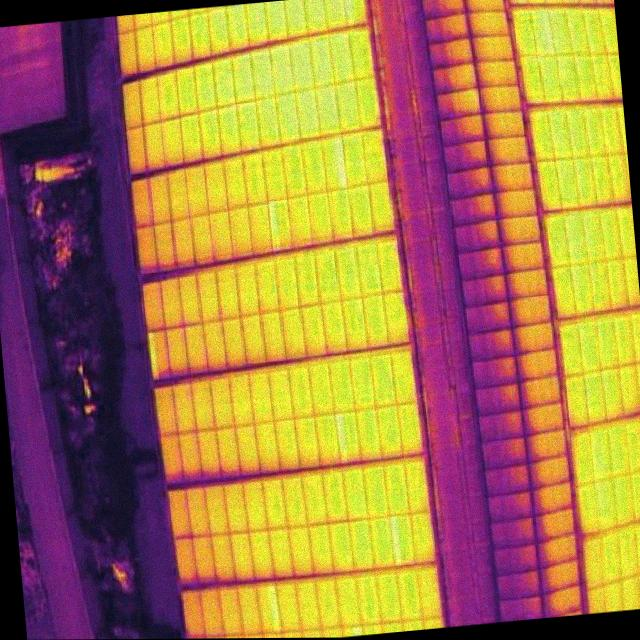Diode: (383, 509, 420, 570), (316, 132, 352, 193), (332, 408, 364, 467), (264, 194, 294, 256), (253, 581, 285, 636)
